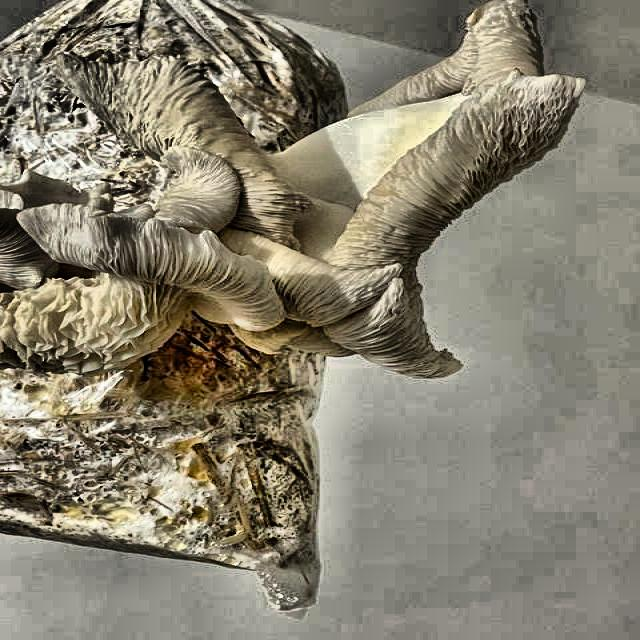Healthy: (357, 0, 640, 206)
